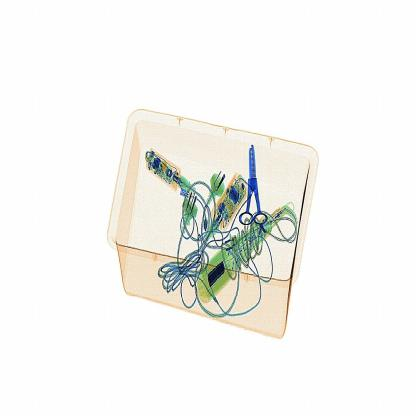gun: (229, 132, 279, 235)
